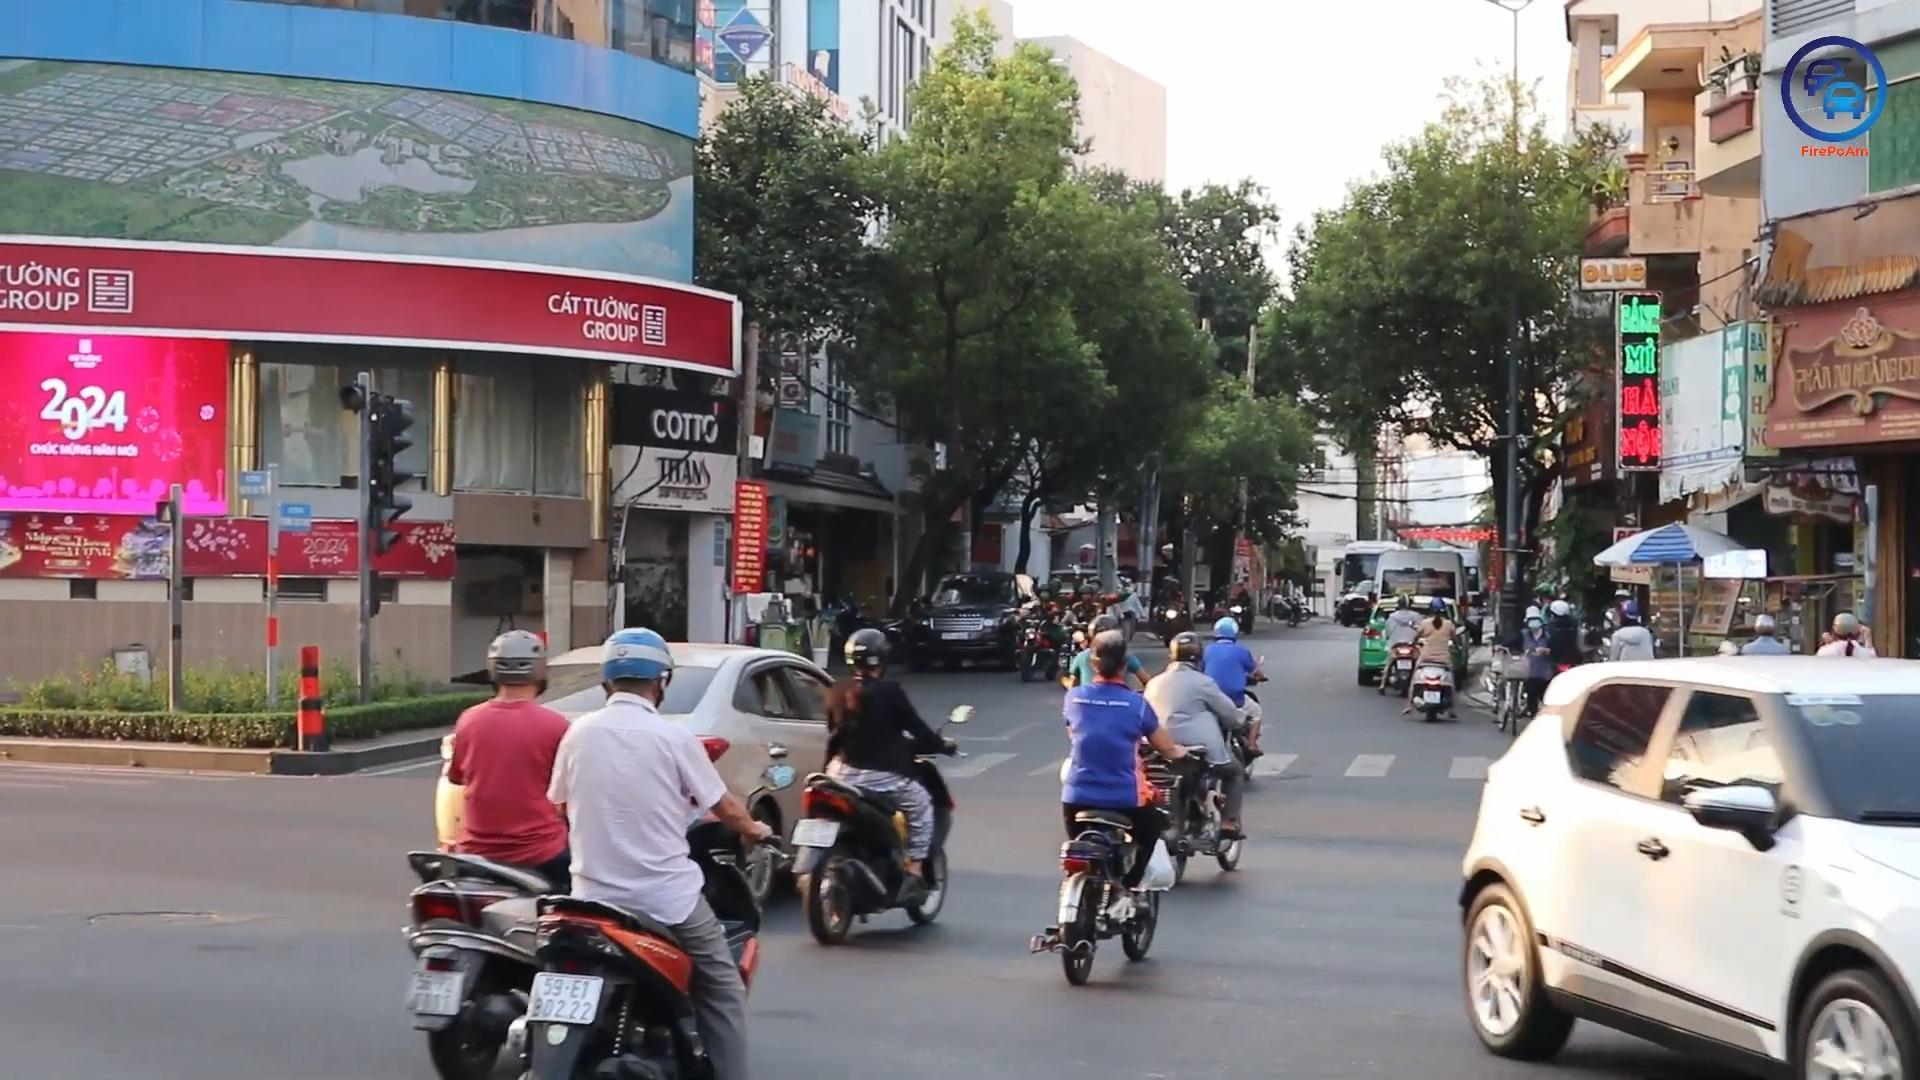bien_so: (525, 971, 603, 1027), (401, 969, 464, 1016), (790, 816, 841, 848)
